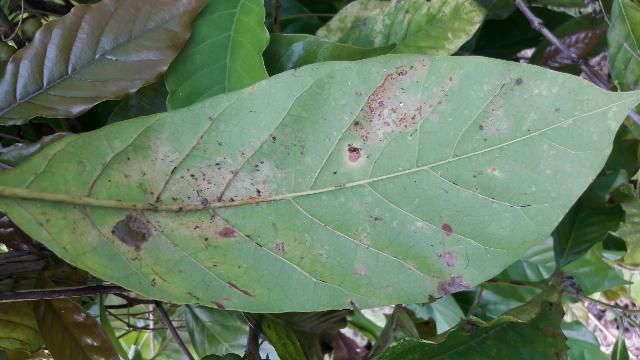rust_level_3: (2, 54, 640, 312)
